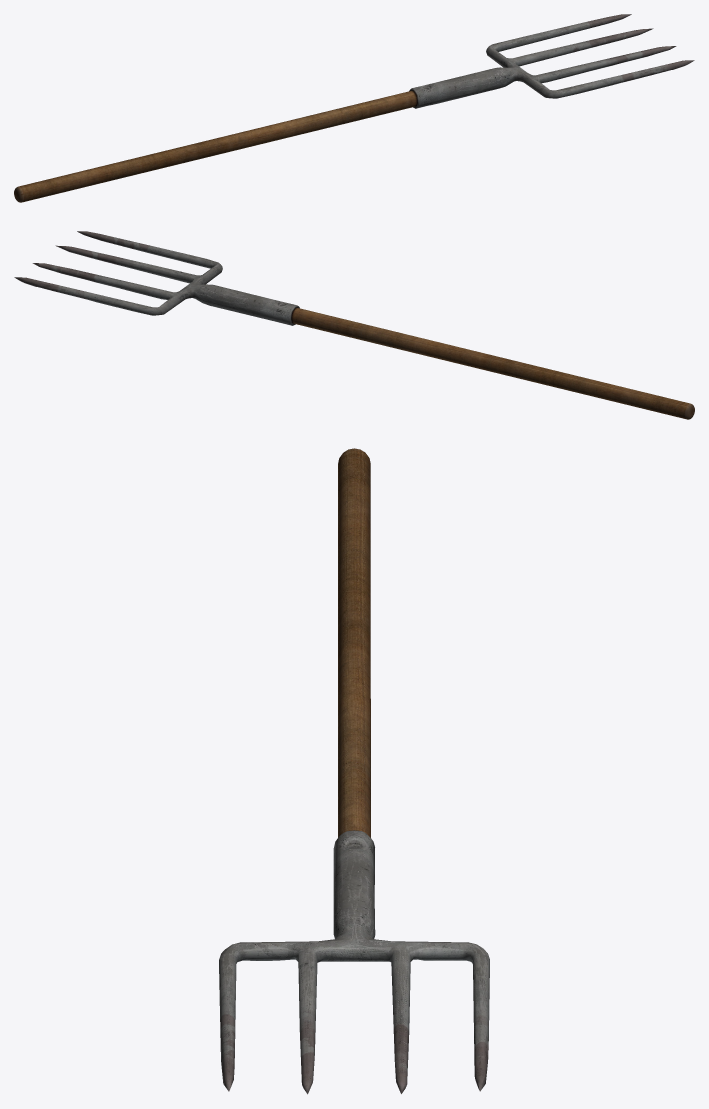
The model's file is pitchfork.glb.
The picture shows the model from 3 angles, top to bottom: view 1: azimuth 30°, elevation 25°; view 2: azimuth 150°, elevation 25°; view 3: azimuth 270°, elevation 25°; orthographic projection. The views are drawn at different scales.
Visible parts, largest first — view 1: base; view 2: base; view 3: base.
Boxes of the visible parts, bbox=[...] form: base: bbox=[14, 14, 694, 202]; base: bbox=[14, 231, 694, 419]; base: bbox=[219, 448, 489, 1094].
Size of the model in its own units: 1.18 by 0.0333 by 0.2135.
1 material, 1 textured.
